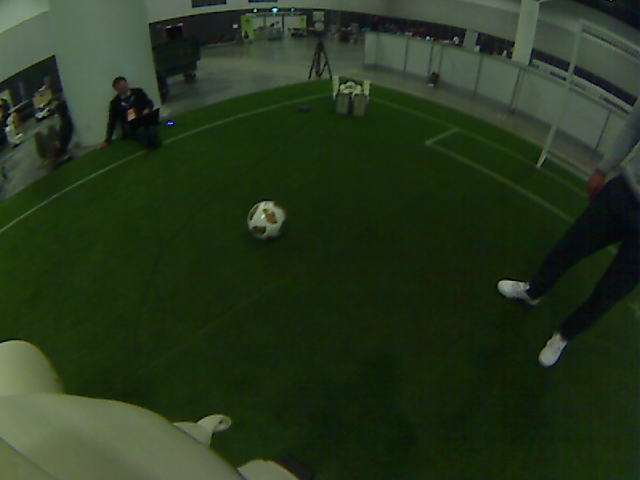ball: (246, 199, 286, 239)
goalpost: (528, 114, 548, 168)
robot: (333, 66, 368, 116)
